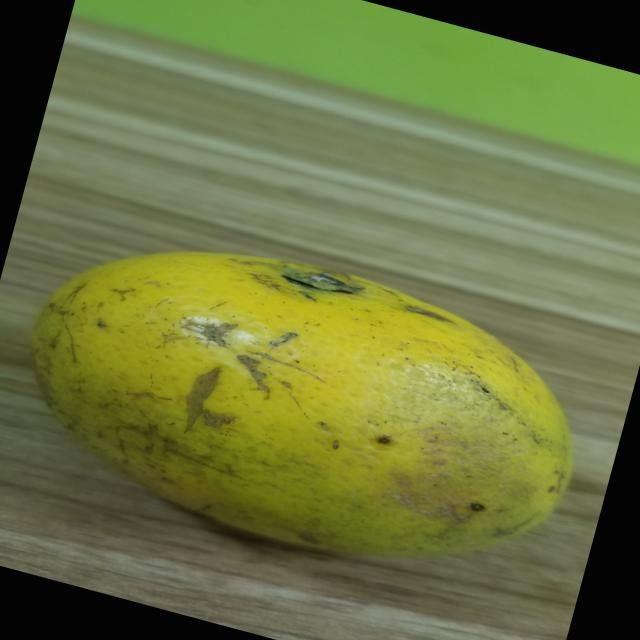agrume: (0, 190, 615, 624)
